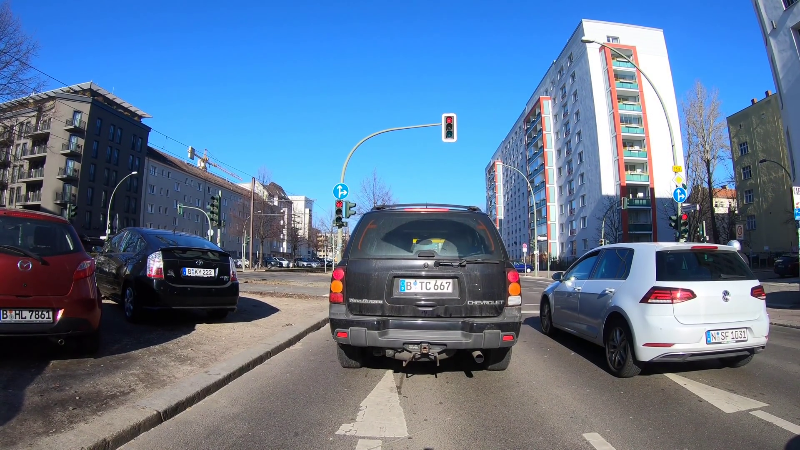Plate: (1, 305, 55, 325), (397, 277, 455, 295), (703, 326, 750, 345), (183, 267, 218, 278)
